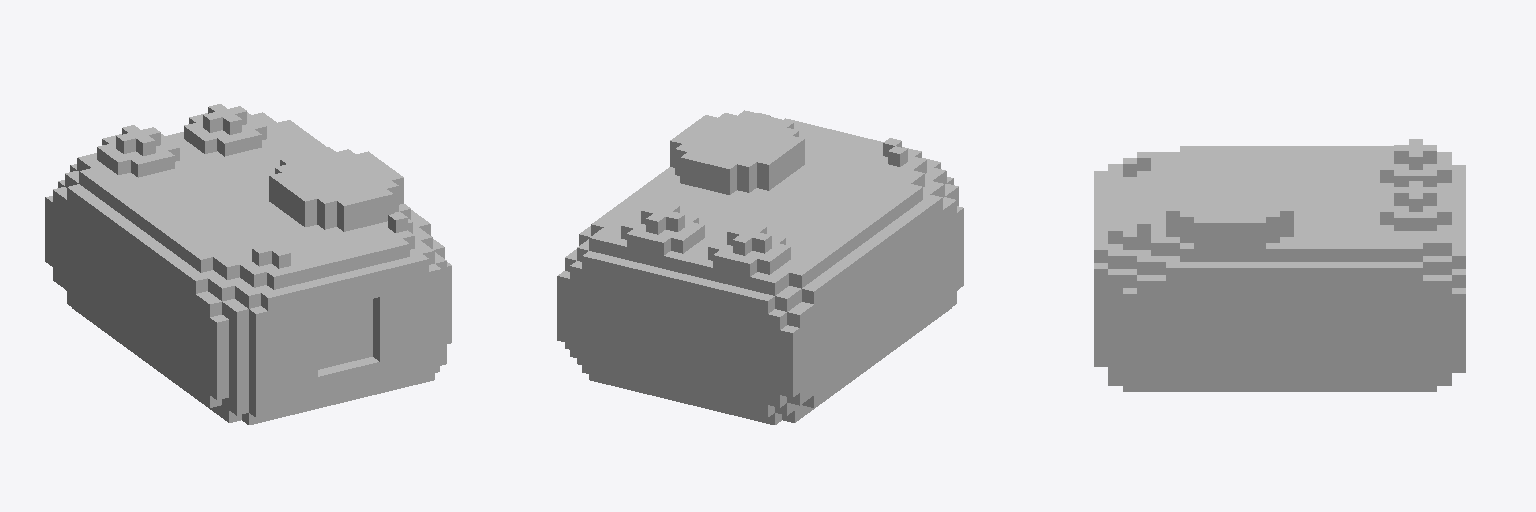
Rendered from head.obj.
3 views of the same model, side by side, from view 1: azimuth 30°, elevation 25°; view 2: azimuth 150°, elevation 25°; view 3: azimuth 270°, elevation 25° (orthographic).
Visible parts, largest first — view 1: object 1; view 2: object 1; view 3: object 1.
Part boxes in pixels (x1,y1,x2,y2): object 1: (45,104,451,424); object 1: (557,110,963,424); object 1: (1094,139,1465,391).
Size of the model in its own units: 1.9 by 1.3 by 2.6.